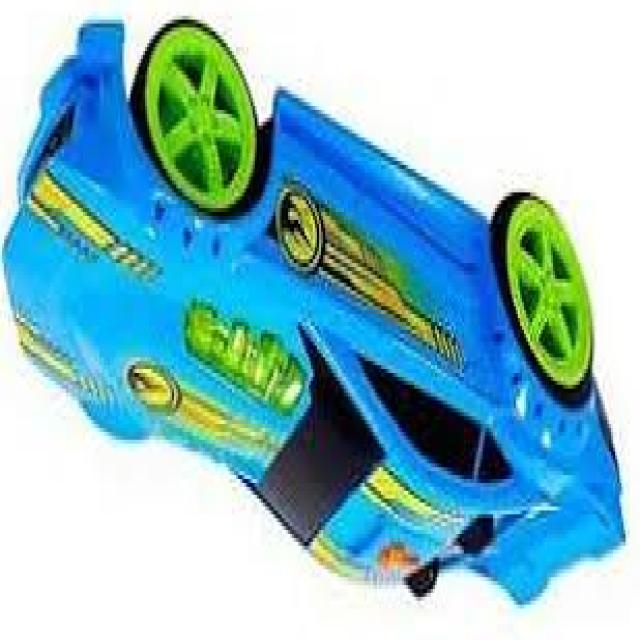Car: (0, 20, 626, 612)
